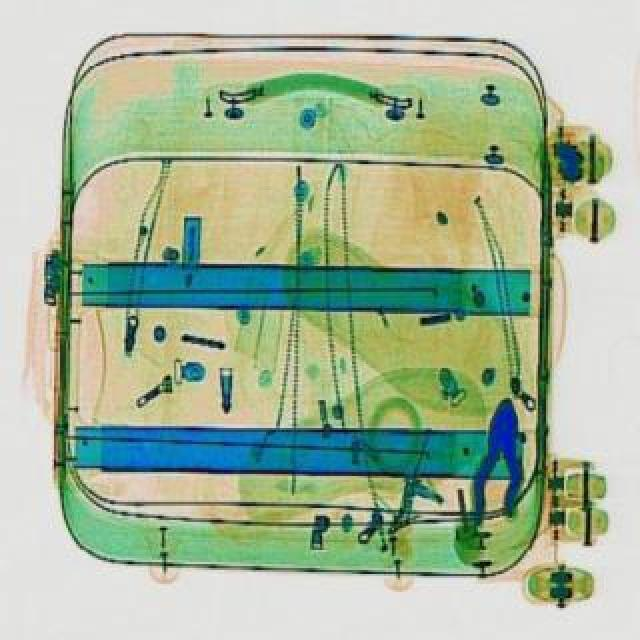wrench: (466, 394, 530, 526)
